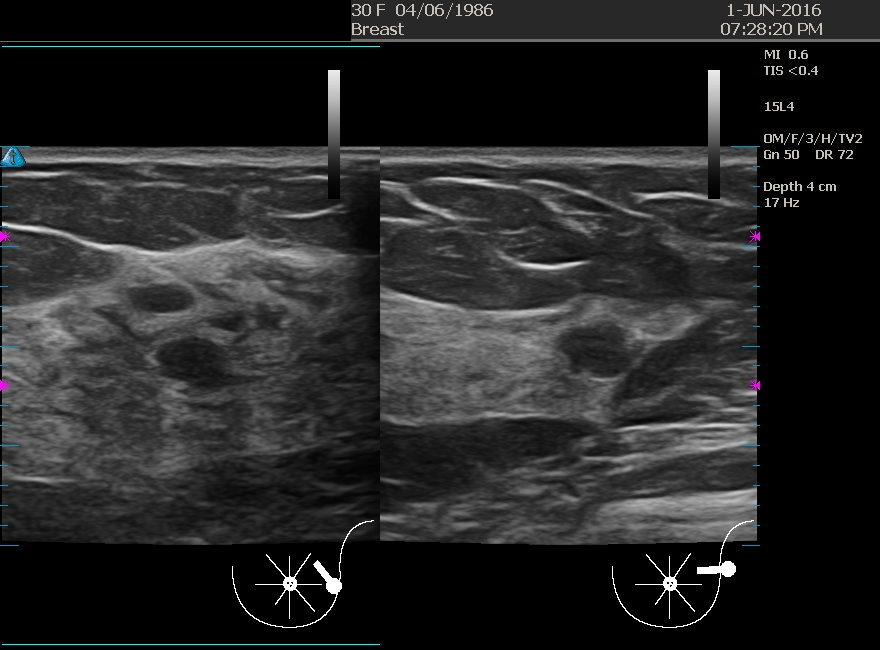BIRADS_2: (98, 268, 298, 469), (498, 254, 698, 455)
